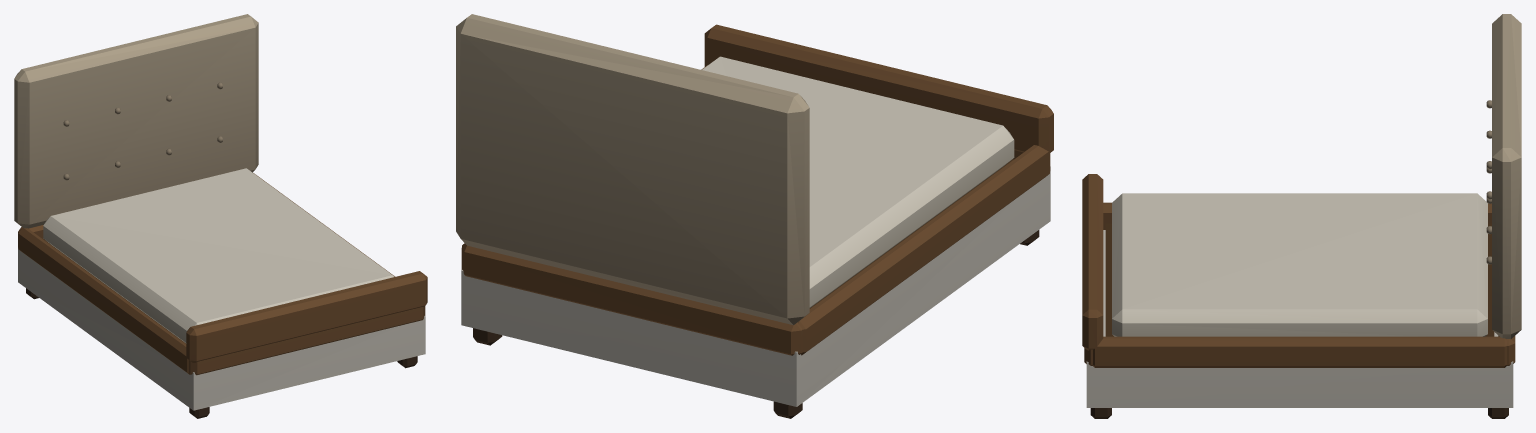
File: queen_bed.glb
3 renders of one model, left to right at view 1: azimuth 30°, elevation 25°; view 2: azimuth 150°, elevation 25°; view 3: azimuth 270°, elevation 25°, orthographic. The views are drawn at different scales.
Visible parts, largest first — view 1: queen_bed; view 2: queen_bed; view 3: queen_bed.
Part boxes in pixels (<box>): queen_bed: <box>14,14,427,418</box>; queen_bed: <box>456,14,1053,418</box>; queen_bed: <box>1082,14,1521,418</box>.
Bounding box in the file's own units: 1.6 × 1.43 × 2.08.
